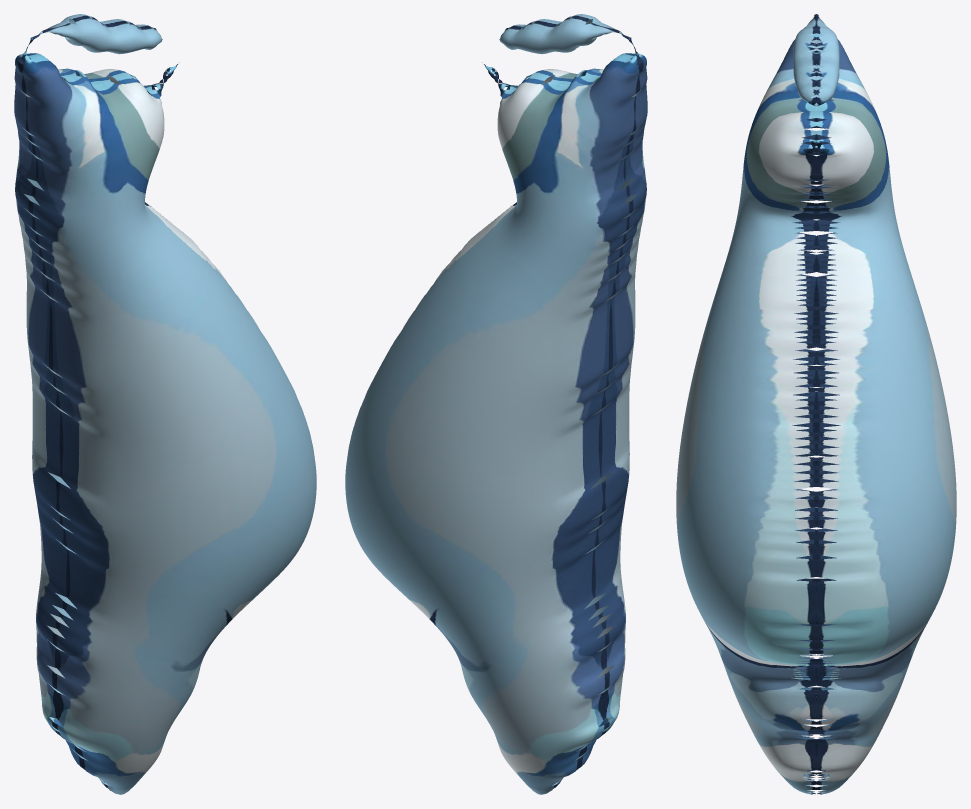
The model's file is ice_cliff.glb.
3 renders of one model, left to right at view 1: azimuth 30°, elevation 25°; view 2: azimuth 150°, elevation 25°; view 3: azimuth 270°, elevation 25°, orthographic. The views are drawn at different scales.
Parts seen in each view (by area): view 1: ice_cliff; view 2: ice_cliff; view 3: ice_cliff.
Boxes of the visible parts, x1,y1,x2,y2 form: ice_cliff: (14,14,316,794); ice_cliff: (345,14,647,794); ice_cliff: (676,14,956,794).
Size of the model in its own units: 0.9701 by 2.65 by 0.9001.
1 material, 1 textured.
